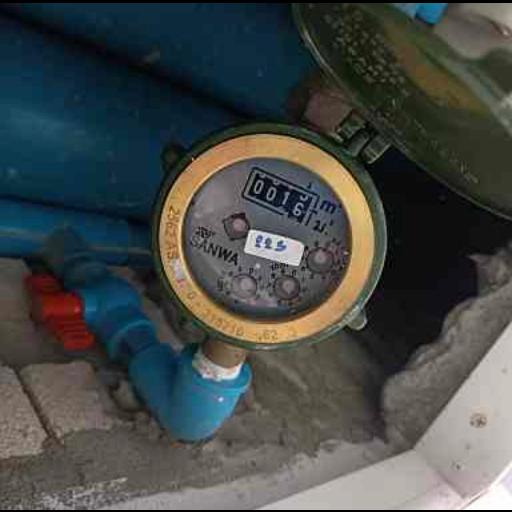0: (260, 178, 285, 207), (247, 171, 271, 199)
1: (275, 184, 300, 213)
6: (287, 191, 314, 224)
border_water_meter_number: (239, 163, 322, 227)
